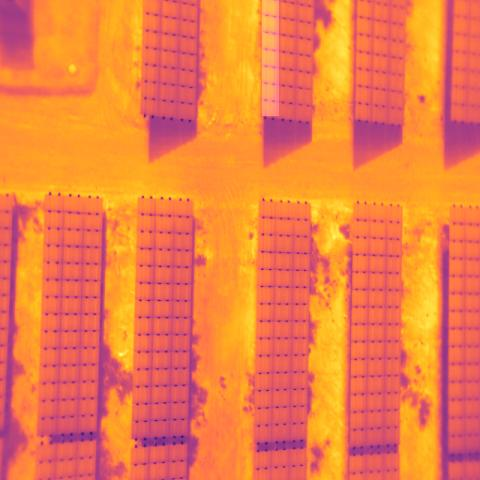fault: (262, 0, 279, 116)
